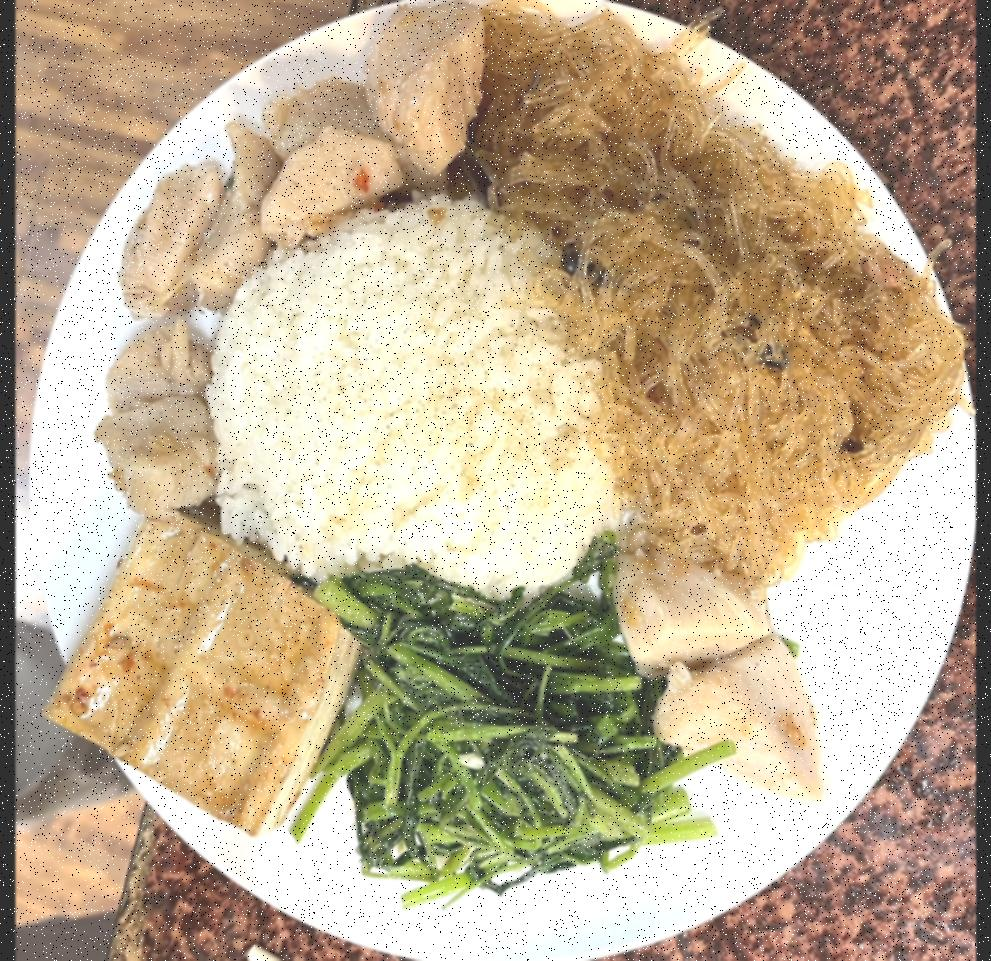big fried chicken leg: (33, 0, 976, 961)
big herbal chicken leg: (215, 204, 610, 596)
braised fish fillet: (474, 14, 960, 564), (310, 566, 678, 912), (34, 508, 367, 845)
braised pork: (95, 10, 491, 519)
